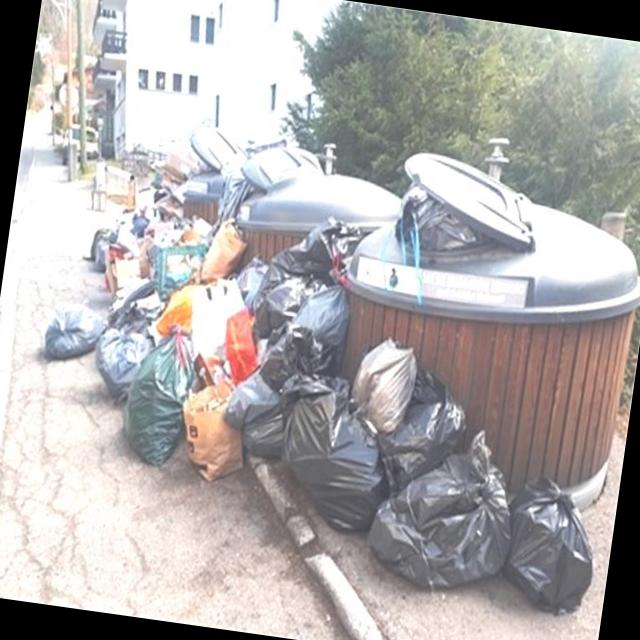high trash: (43, 194, 592, 612)
